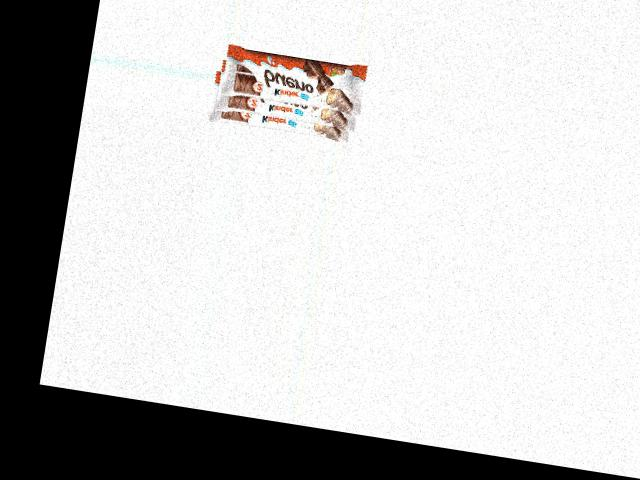chocolate: (209, 41, 364, 144)
